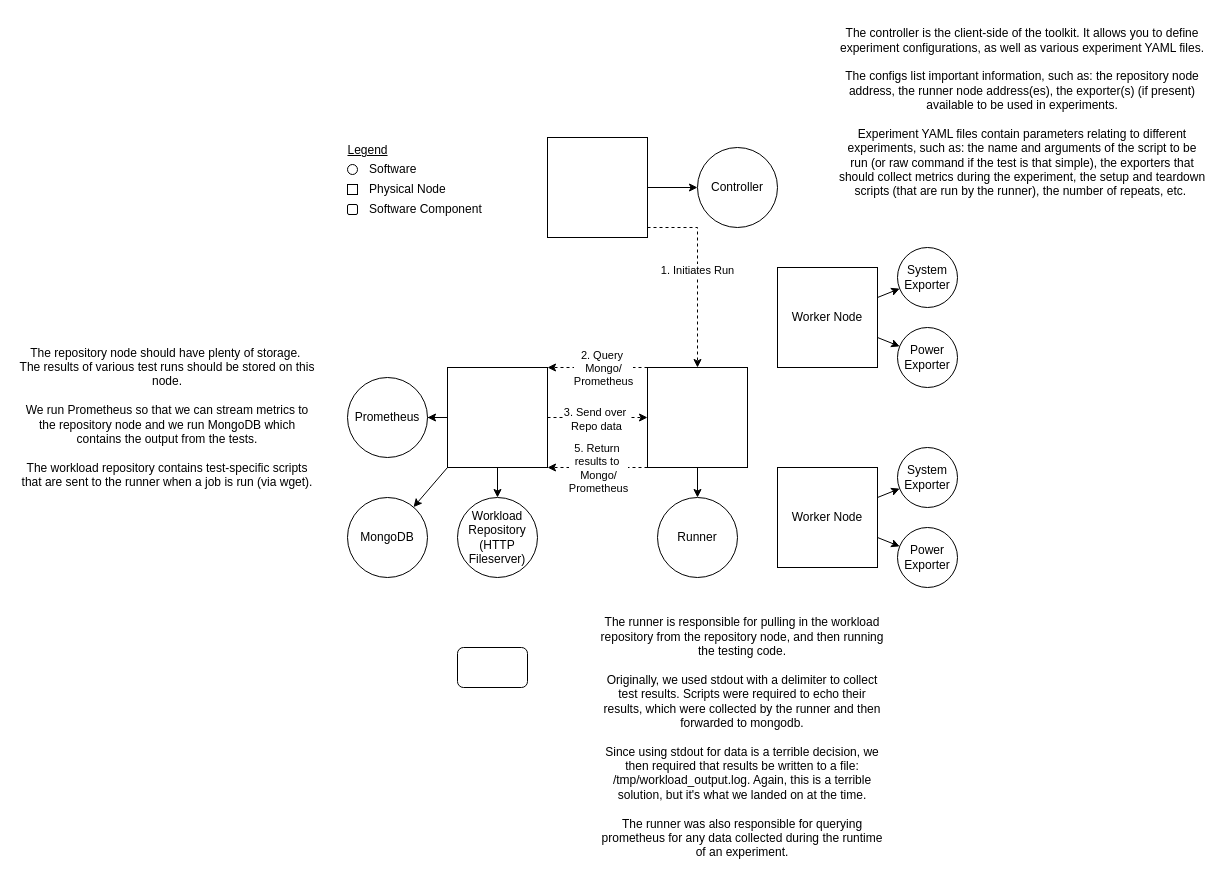
The diagram is 1224 pixels wide and 884 high, and some of its shapes have lost their labels. The box of each missing label's shape, as (x1, y1, x2, y2) in pixels:
Custom Test Script: (456, 646, 528, 688)
Local Machine: (546, 136, 648, 238)
Repository Node: (446, 366, 548, 468)
Runner Node 4. Run experiment: (646, 366, 748, 468)
